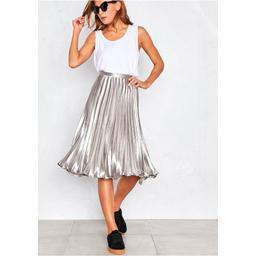Tshirt: (90, 24, 142, 80)
skirt: (58, 73, 158, 181)
